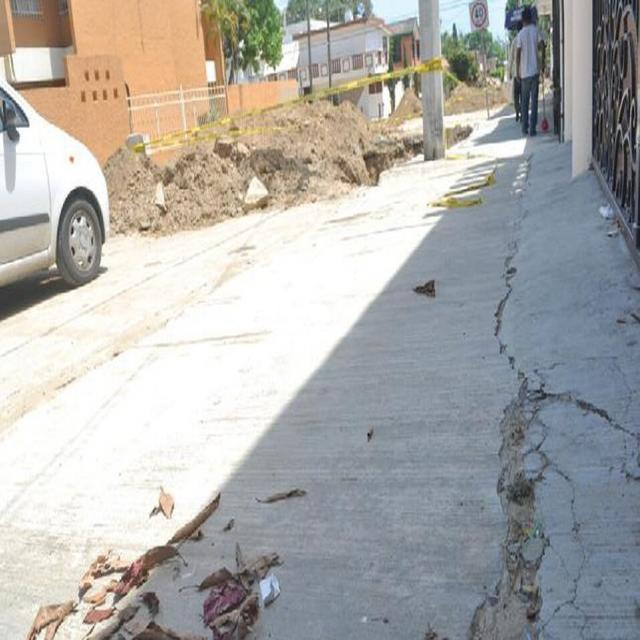Pothole: (428, 315, 593, 640)
